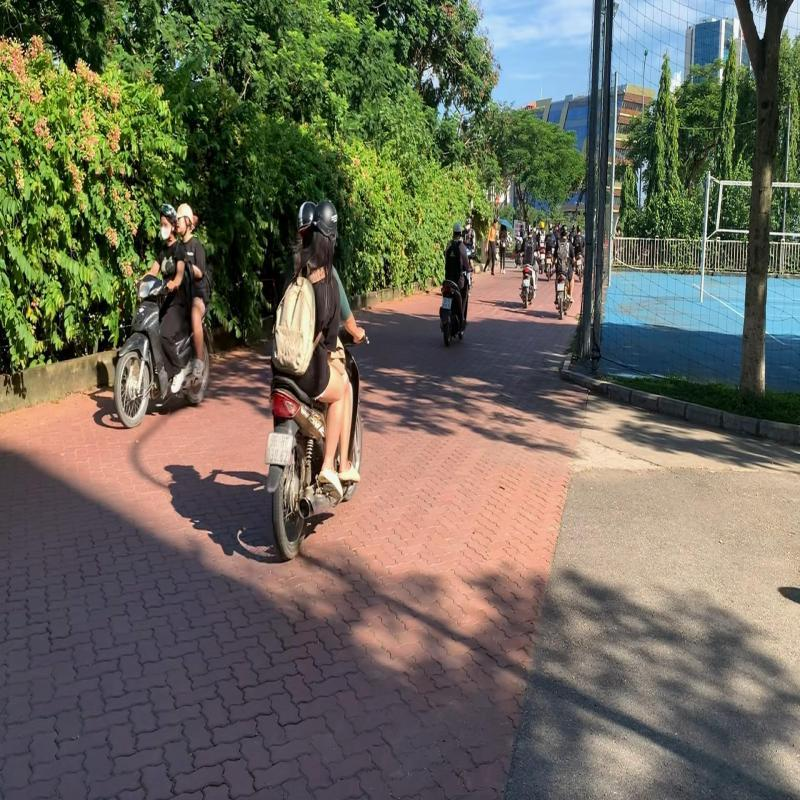helmet: (314, 200, 339, 245), (296, 200, 316, 237)
licenseplate: (264, 431, 294, 468)
motorcyclist: (260, 198, 376, 564)
